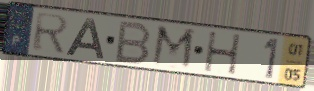1: (261, 36, 281, 82)
A: (63, 16, 107, 60)
B: (112, 19, 154, 66)
H: (203, 30, 243, 77)
M: (149, 23, 198, 73)
R: (31, 11, 72, 55)
